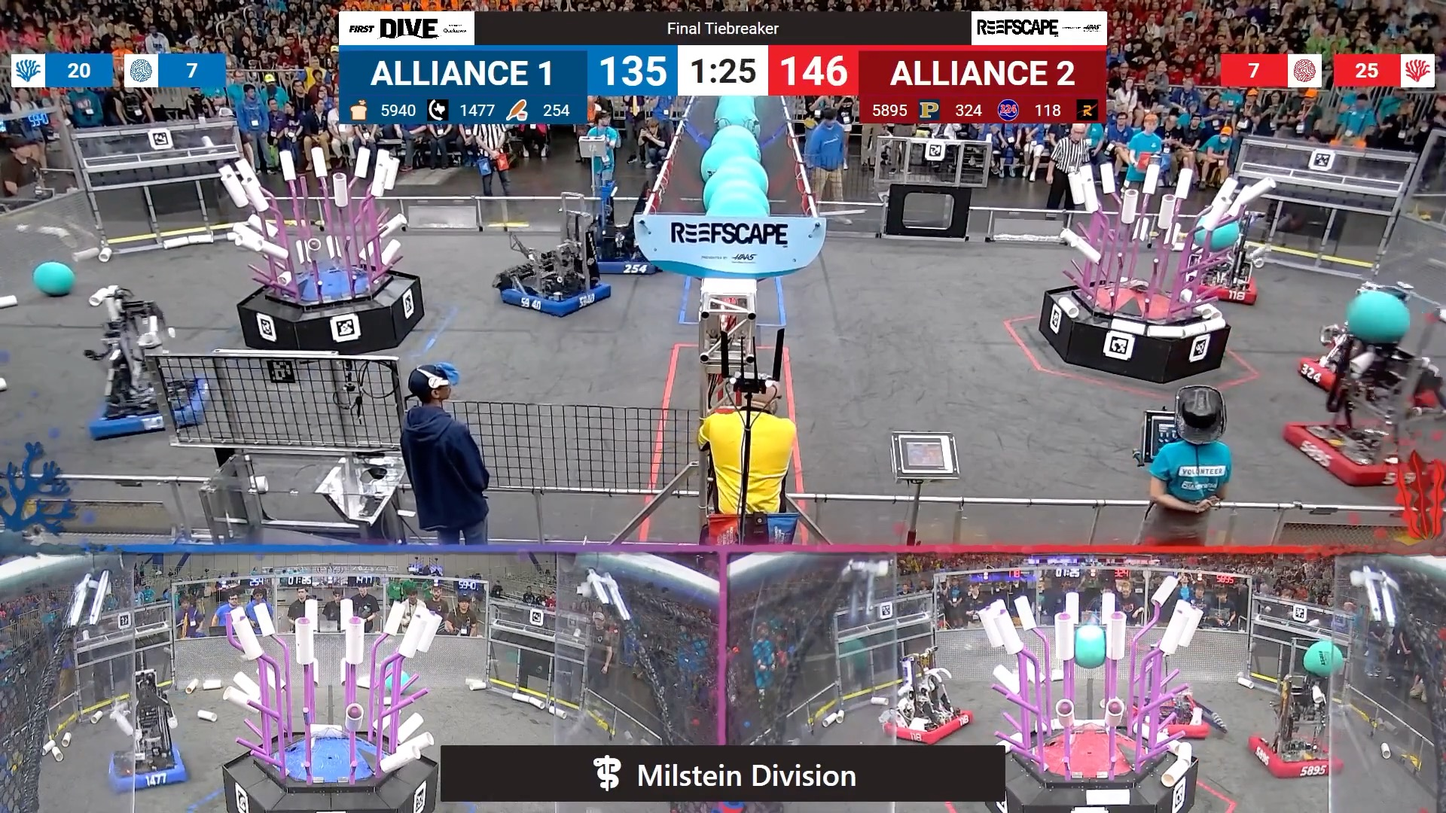bumpers: (1276, 415, 1429, 489), (85, 370, 218, 443), (1287, 349, 1430, 406), (494, 274, 620, 322), (1237, 730, 1343, 784), (101, 742, 196, 796), (878, 705, 979, 745), (581, 240, 671, 281), (1182, 270, 1267, 306), (1140, 702, 1219, 738)
